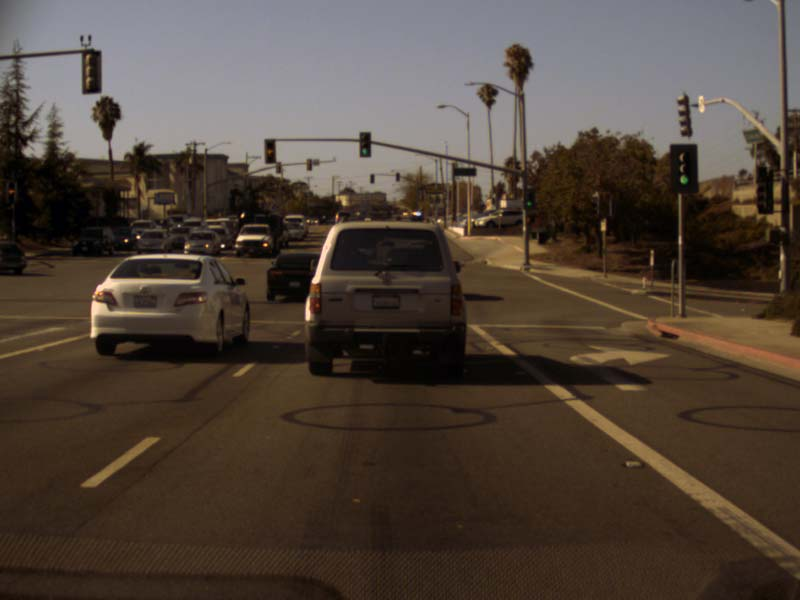Green: (670, 144, 697, 193), (359, 132, 370, 157), (523, 188, 534, 207)
Yellow: (264, 140, 276, 162), (8, 182, 13, 202)
